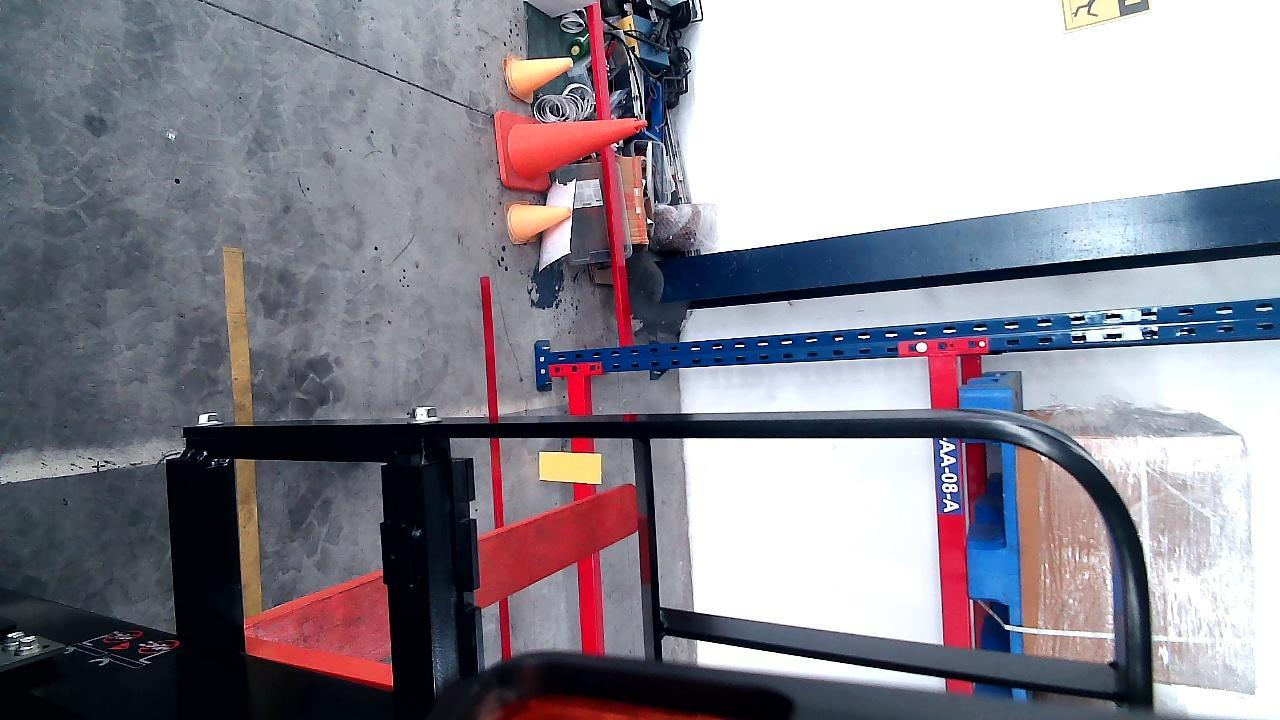red_line: (477, 277, 514, 657)
yellow_line: (225, 242, 266, 627)
